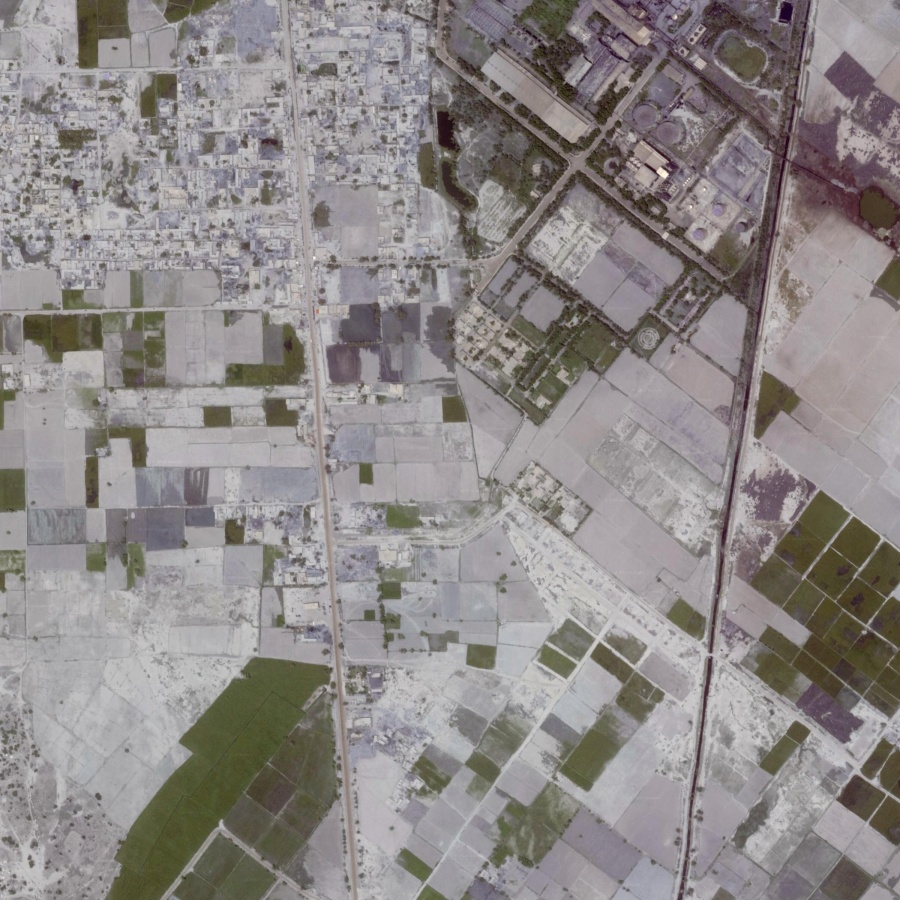PowerPlant: (579, 31, 769, 249)
